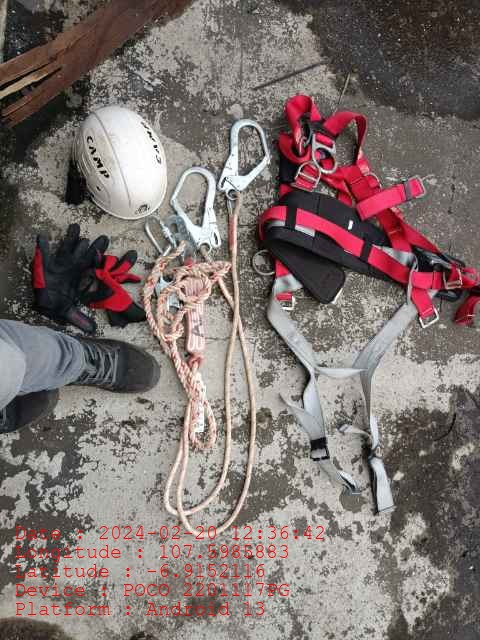HELM: (71, 106, 168, 220)
TAMBANG_SLING: (143, 244, 250, 348)
